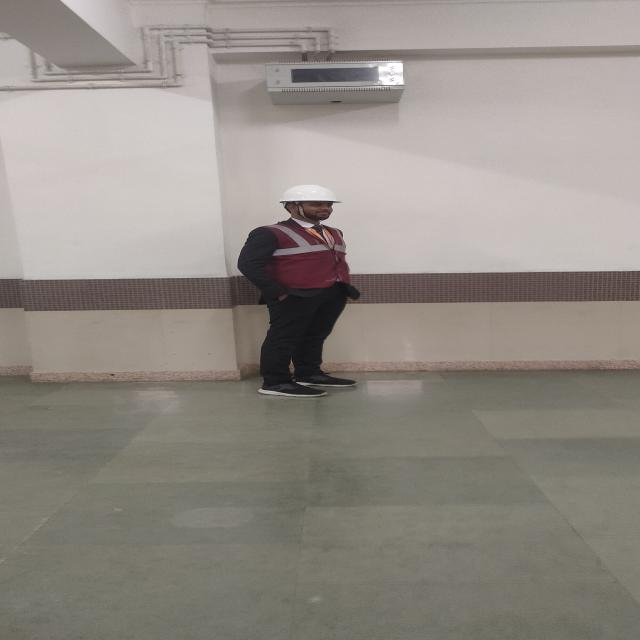safe: (239, 185, 350, 396)
